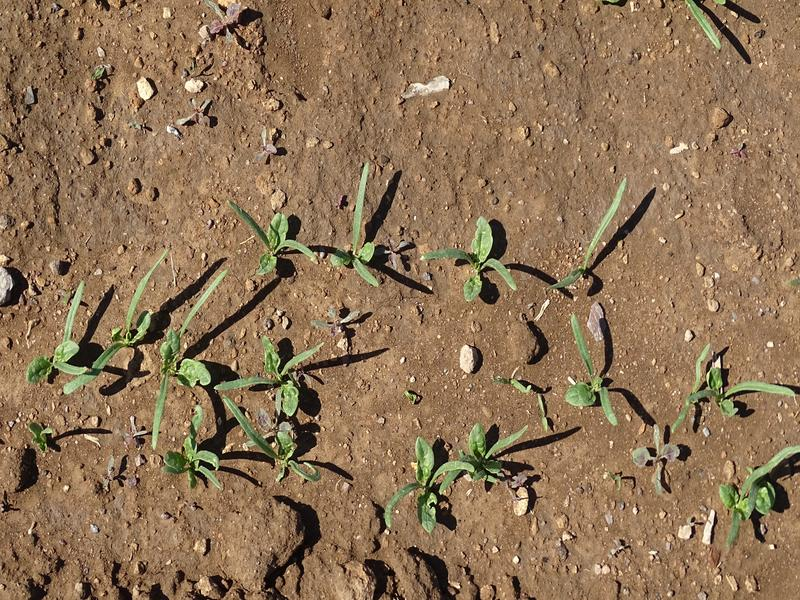Espinaca: (43, 256, 316, 478), (383, 427, 529, 527), (704, 436, 790, 558), (678, 347, 793, 421), (238, 168, 313, 270), (559, 188, 629, 290), (558, 318, 623, 427), (331, 171, 385, 285), (451, 217, 498, 302)
